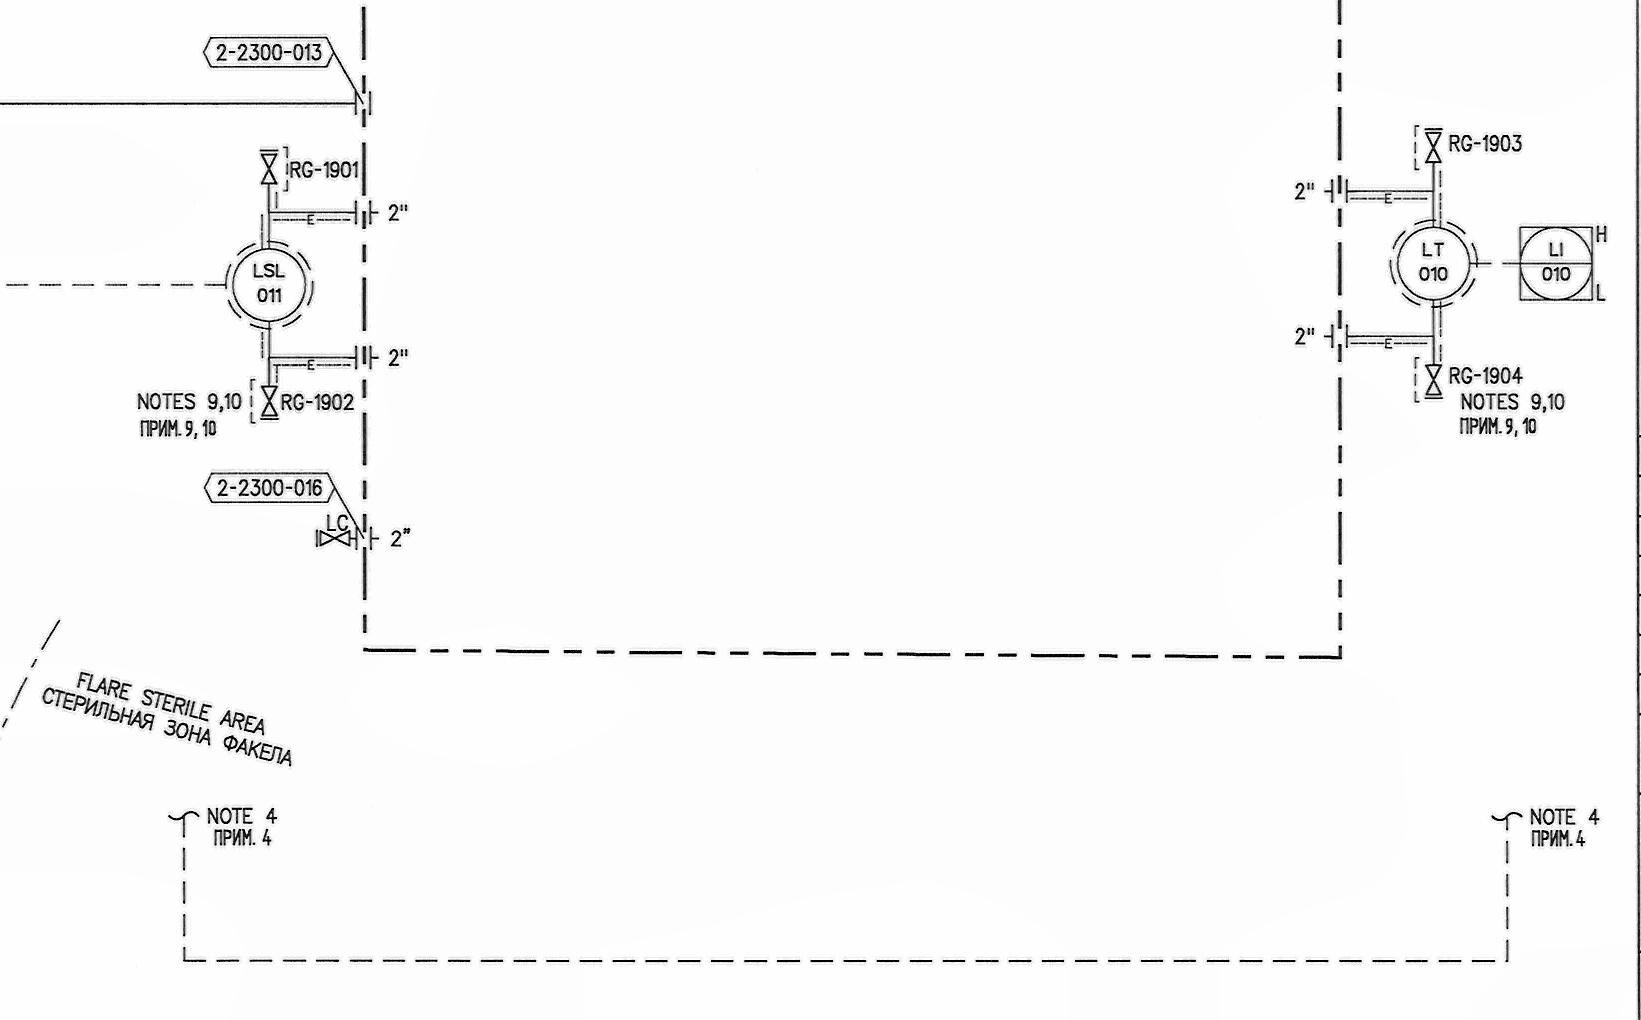DCS ACCESSIBLE: (1516, 221, 1596, 303)
FIELD INSTRUMENT: (223, 242, 318, 331), (258, 384, 281, 422)
GATE VALVE: (1381, 221, 1482, 309), (258, 146, 280, 186), (316, 529, 355, 550), (1425, 126, 1445, 165), (1425, 362, 1445, 401)
ORIFICE PLATE: (1327, 308, 1352, 364), (1326, 174, 1352, 227), (352, 74, 374, 128), (354, 512, 375, 551), (354, 197, 374, 230), (355, 343, 374, 371)
